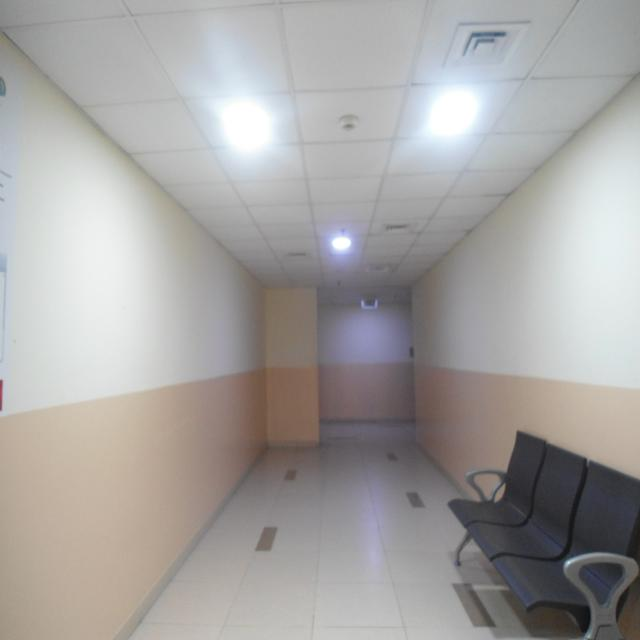bench: (441, 408, 640, 640)
exitLight: (360, 297, 380, 313), (325, 602, 329, 607)
light: (430, 81, 483, 142), (230, 100, 273, 153), (330, 238, 357, 257)
path: (131, 421, 580, 640)
wall: (0, 25, 321, 640), (408, 79, 640, 501), (315, 287, 418, 429)
